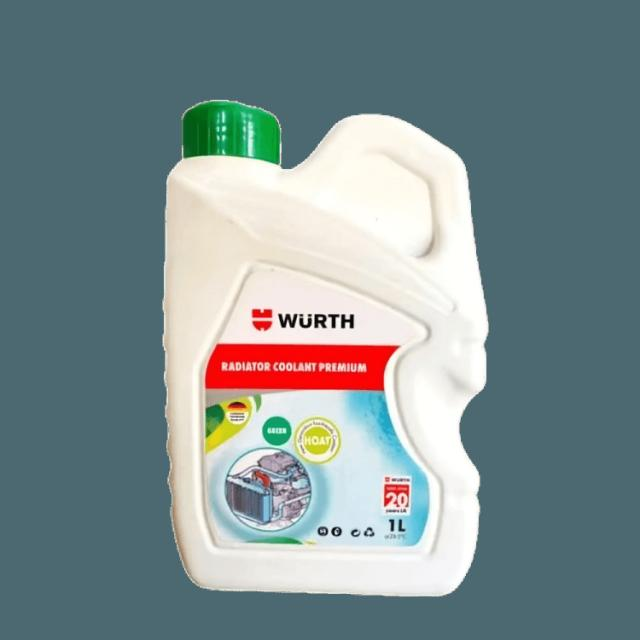coolant: (156, 87, 487, 594)
